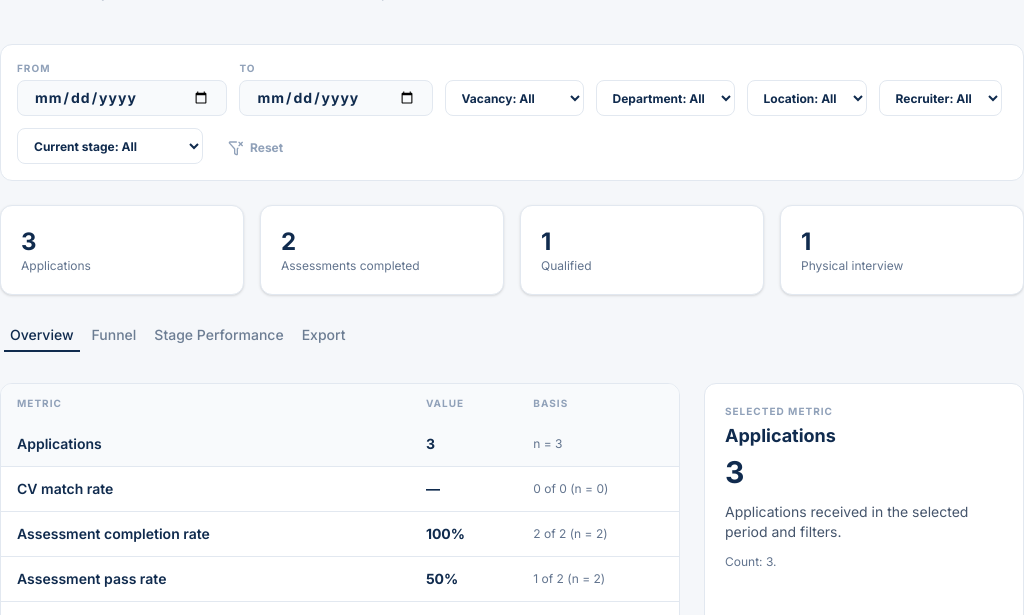
it: Recruitment Insights screen › shows metrics with definitions, drills into funnel stages and exports the report
This screenshot has width=1024, height=615.
Later steps or results of the test are not shown.
Step 1. Click the button "Assessment pass rate" → [92, 579], box [17, 569, 166, 589]
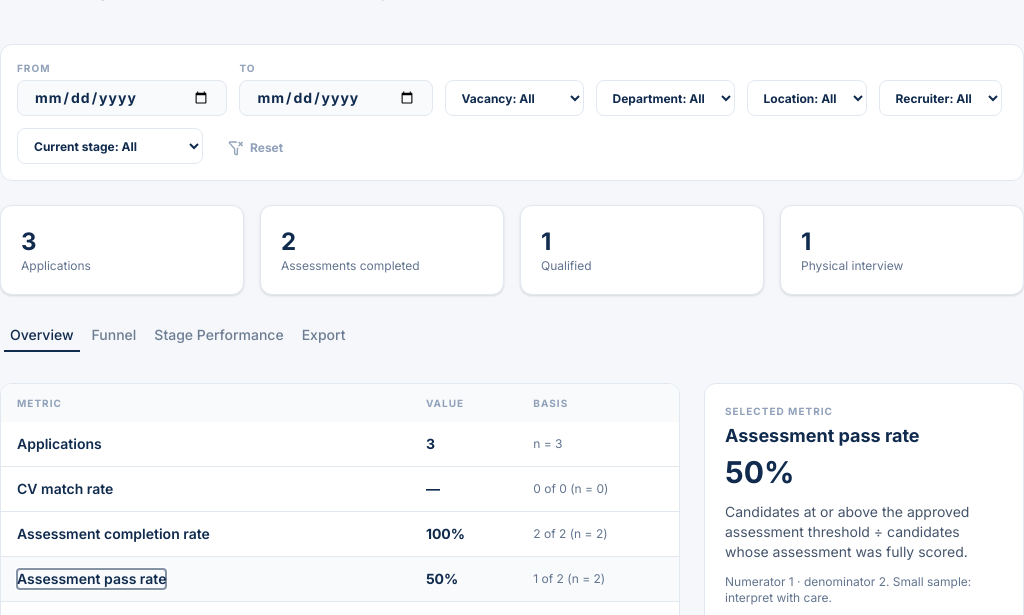
Result: the text "fully scored" is shown at [725, 503, 969, 560]
Result: the text "Small sample" is shown at [725, 574, 971, 605]
Step 2. Click the tab "Funnel" → [114, 335], box [84, 322, 143, 348]
(page scrolled)
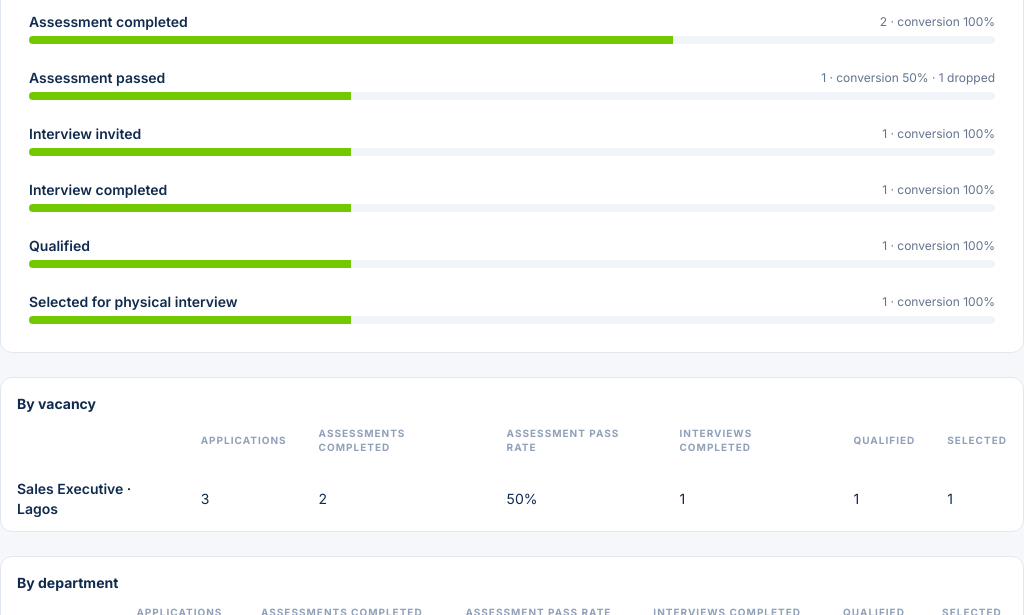
Step 3. Click the button "Selected for physical interview 1 · conversion 100%" → [133, 302], box [21, 284, 1003, 332]
(page scrolled)
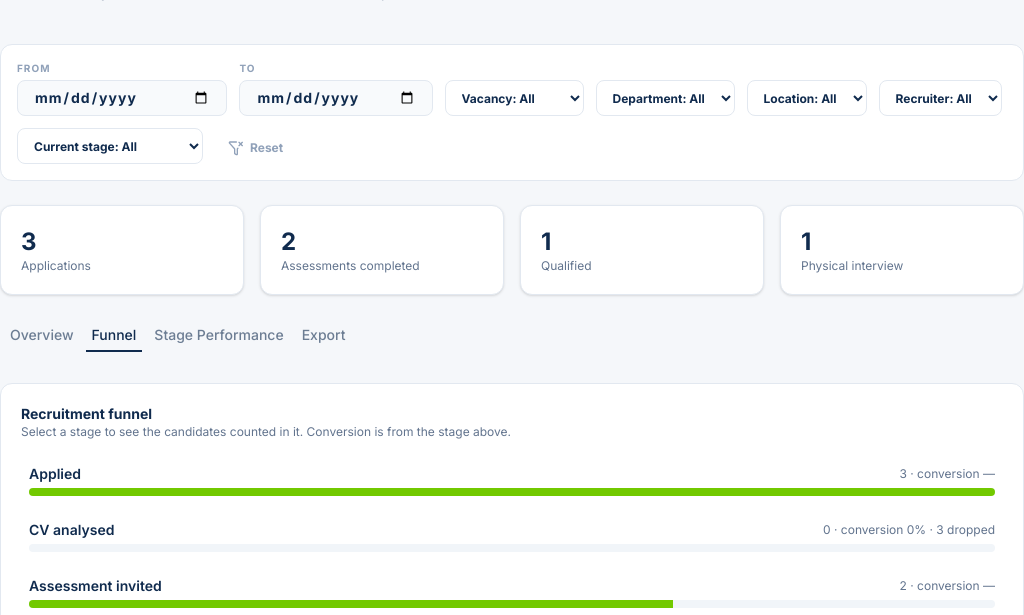
Step 4. Select "Not Progressed" in the dropdown named "Current stage" → [110, 146], box [17, 128, 203, 164]
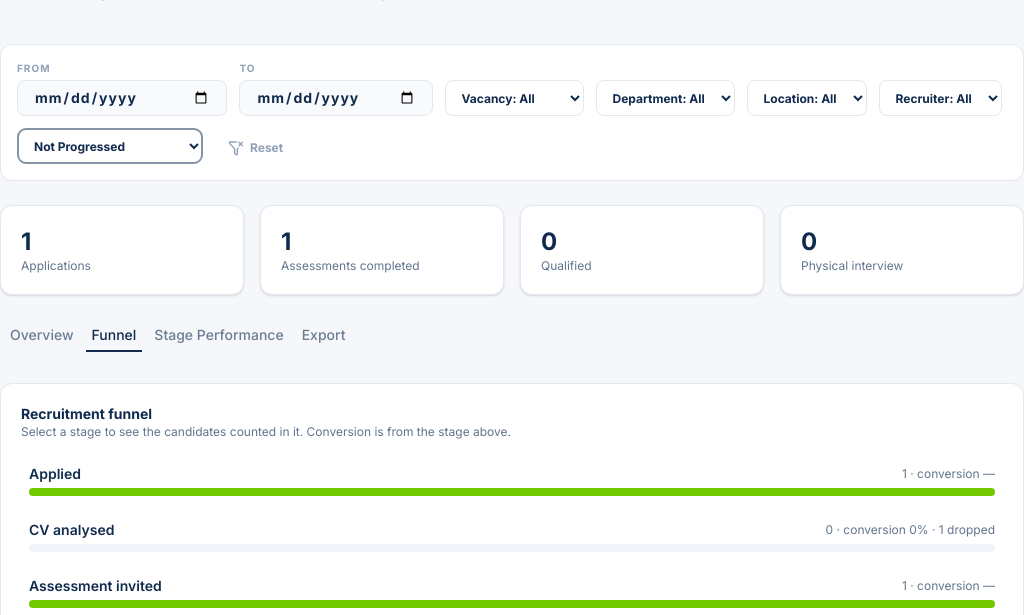
Step 5. Click the tab "Overview" → [42, 335], box [3, 322, 80, 348]
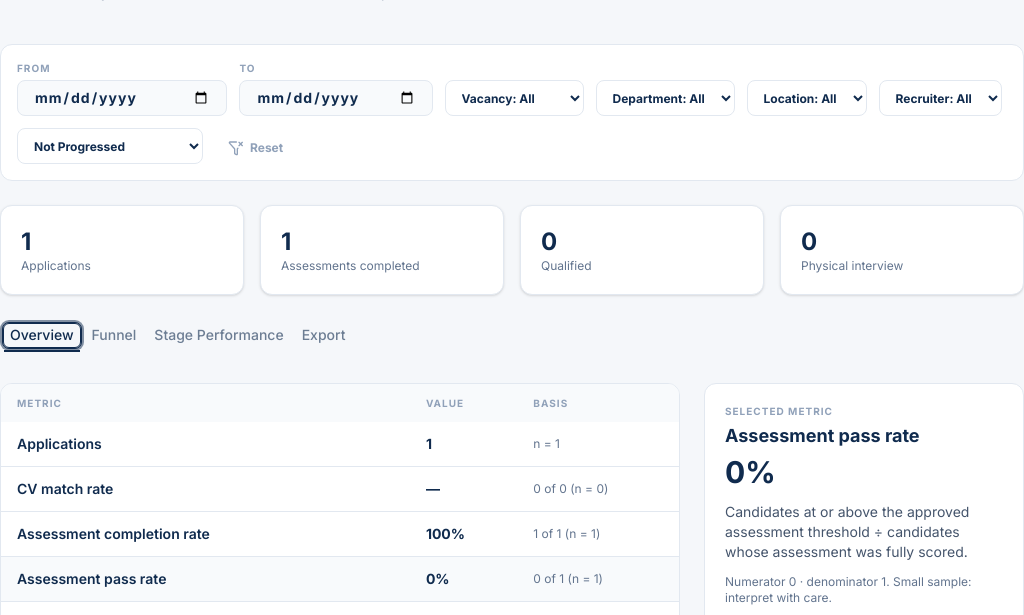
Result: the text "n = 1" is shown at [517, 422, 679, 467]
